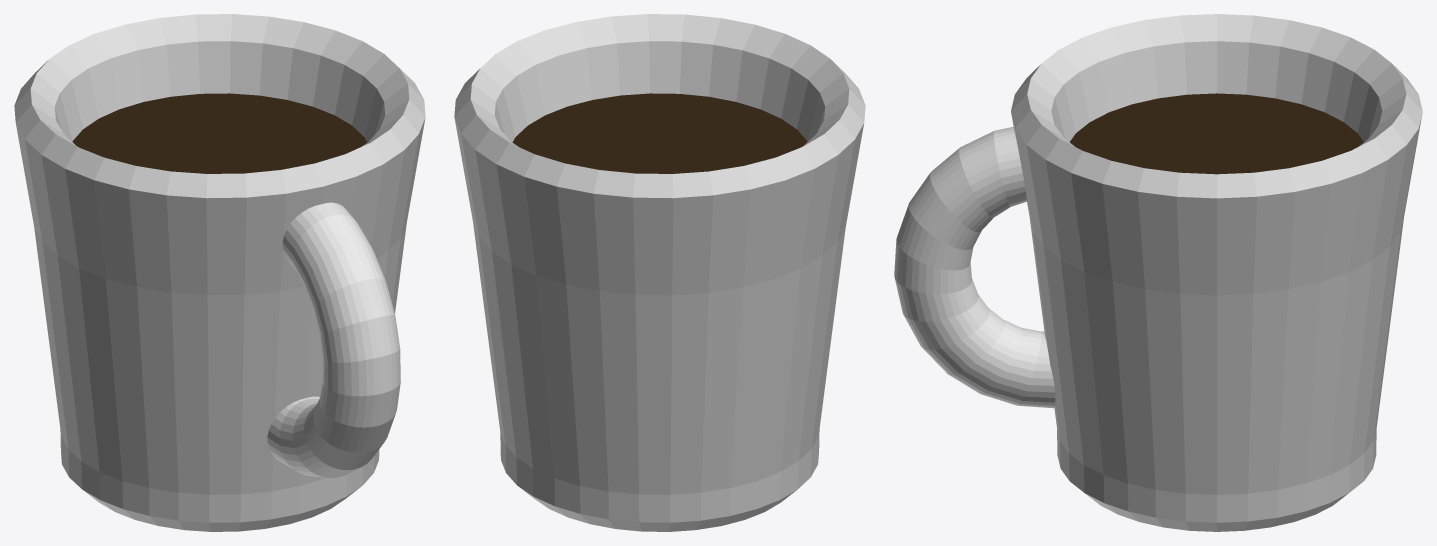
The model's file is taza.glb.
The picture shows the model from 3 angles, left to right: view 1: azimuth 30°, elevation 25°; view 2: azimuth 150°, elevation 25°; view 3: azimuth 270°, elevation 25°; orthographic projection.
Visible parts, largest first — view 1: Cylinder, Circle; view 2: Cylinder; view 3: Cylinder, Circle.
Part boxes in pixels (<box>): Cylinder: <box>14,14,425,531</box>; Circle: <box>267,202,400,478</box>; Cylinder: <box>454,14,865,531</box>; Cylinder: <box>1011,14,1422,531</box>; Circle: <box>894,126,1055,408</box>.
Bounding box in the file's own units: 1.97 × 2 × 2.53.
